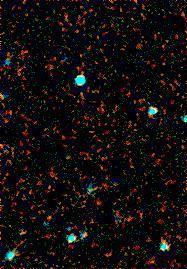star: (34, 204, 64, 234)
